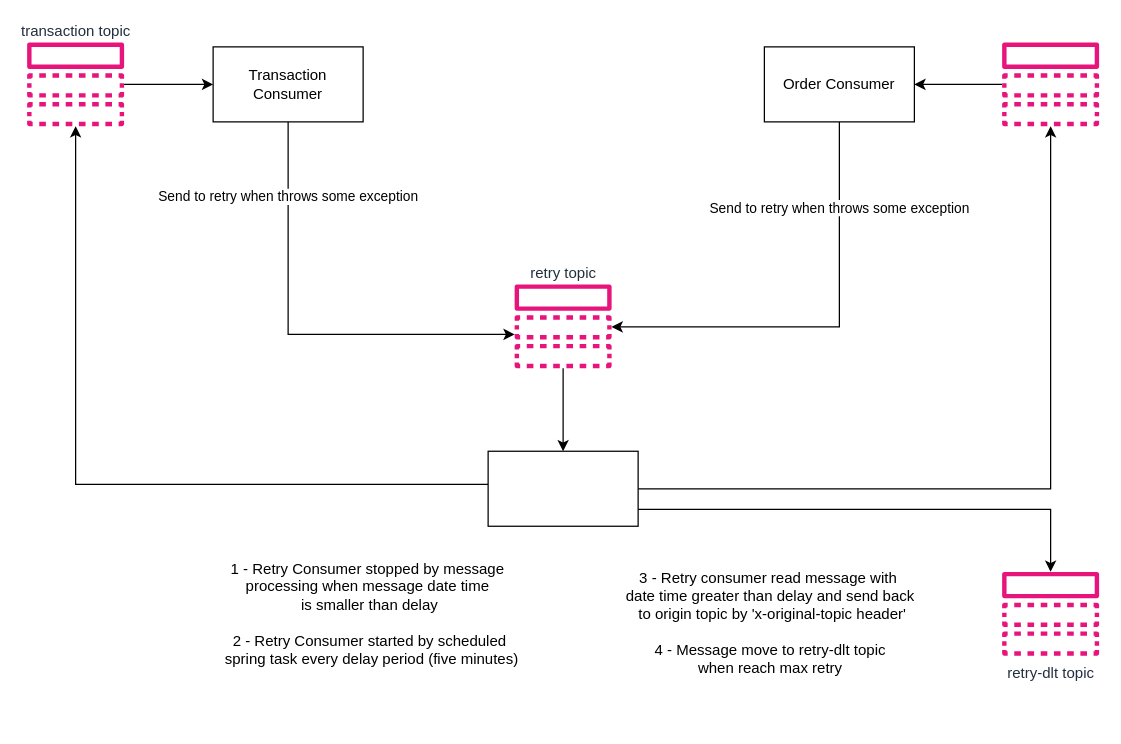
The diagram is 1121 pixels wide and 744 high, and some of its shapes have lost their labels. The shapes that lost their labels are listed below. From the top down, each one's box as (x1, y1, x2, y2) in pixels, then its label:
(1001, 42, 1099, 126): order topic
(487, 450, 638, 526): Retry Consumer
